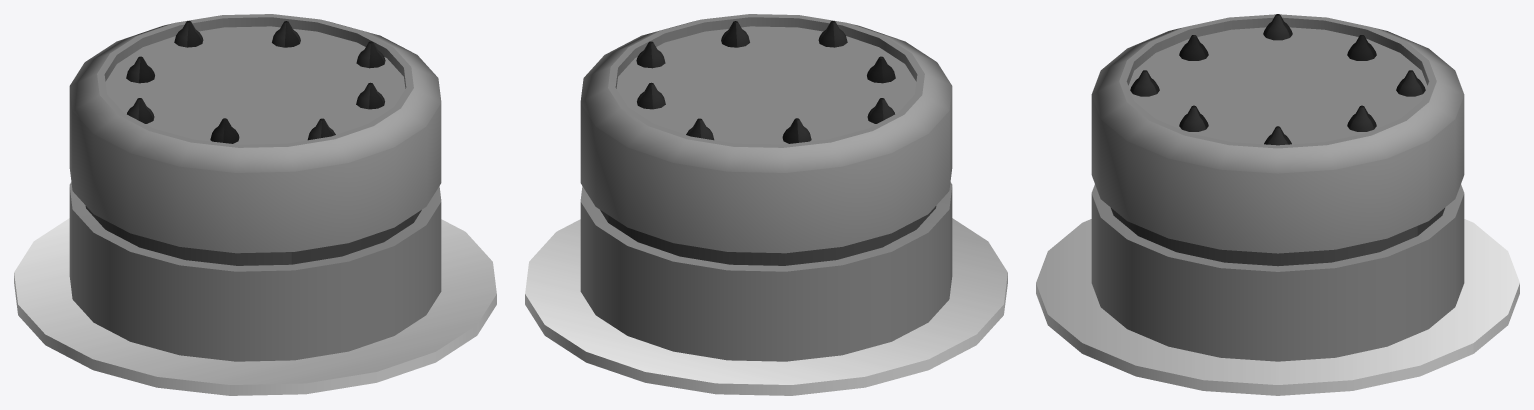
The model's file is CakeModel.fbx.
The picture shows the model from 3 angles, left to right: view 1: azimuth 30°, elevation 25°; view 2: azimuth 150°, elevation 25°; view 3: azimuth 270°, elevation 25°; orthographic projection.
Visible parts, largest first — view 1: CakeModel; view 2: CakeModel; view 3: CakeModel.
Part boxes in pixels (bbox=[...]): CakeModel: bbox=[14, 14, 496, 395]; CakeModel: bbox=[525, 14, 1007, 395]; CakeModel: bbox=[1036, 14, 1519, 395].
Size of the model in its own units: 65.35 by 33.19 by 65.35.
